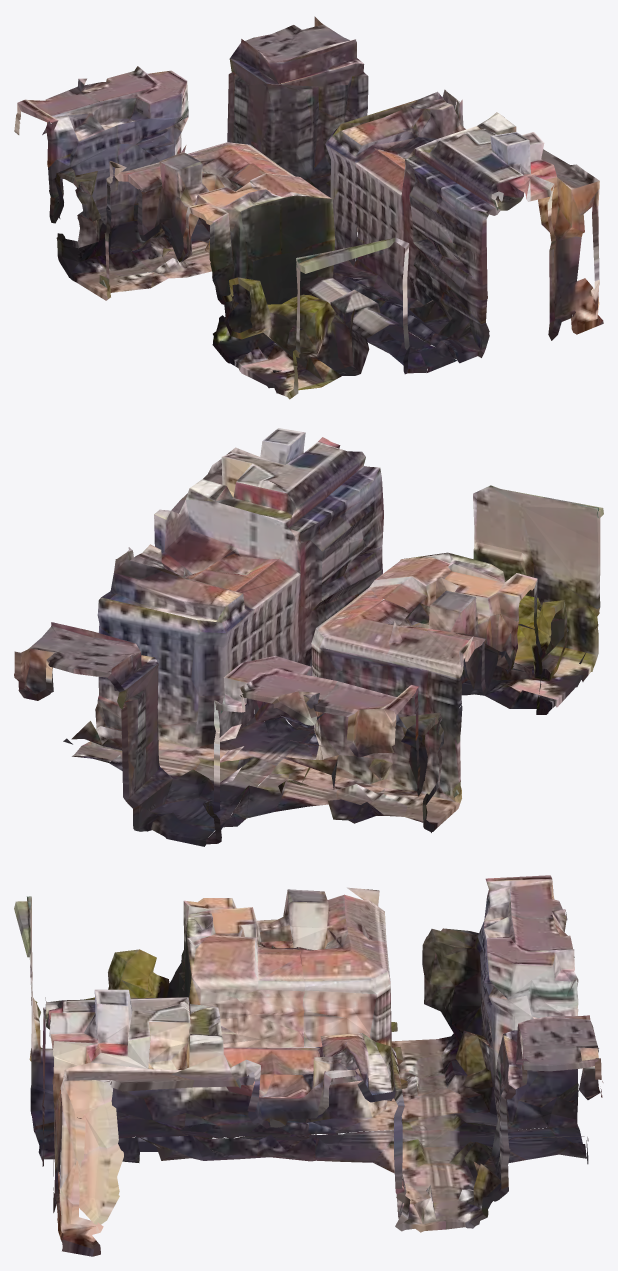
3 renders of one model, top to bottom at view 1: azimuth 30°, elevation 25°; view 2: azimuth 150°, elevation 25°; view 3: azimuth 270°, elevation 25°, orthographic. The views are drawn at different scales.
Visible parts, largest first — view 1: Mesh_0; view 2: Mesh_0; view 3: Mesh_0.
Boxes of the visible parts, box(x1,y1,x2,y2) form: Mesh_0: box(14, 16, 603, 399); Mesh_0: box(14, 428, 603, 846); Mesh_0: box(14, 875, 603, 1256).
Size of the model in its own units: 66.84 by 34.66 by 82.84.
Materials: 1 (1 with a texture image).
